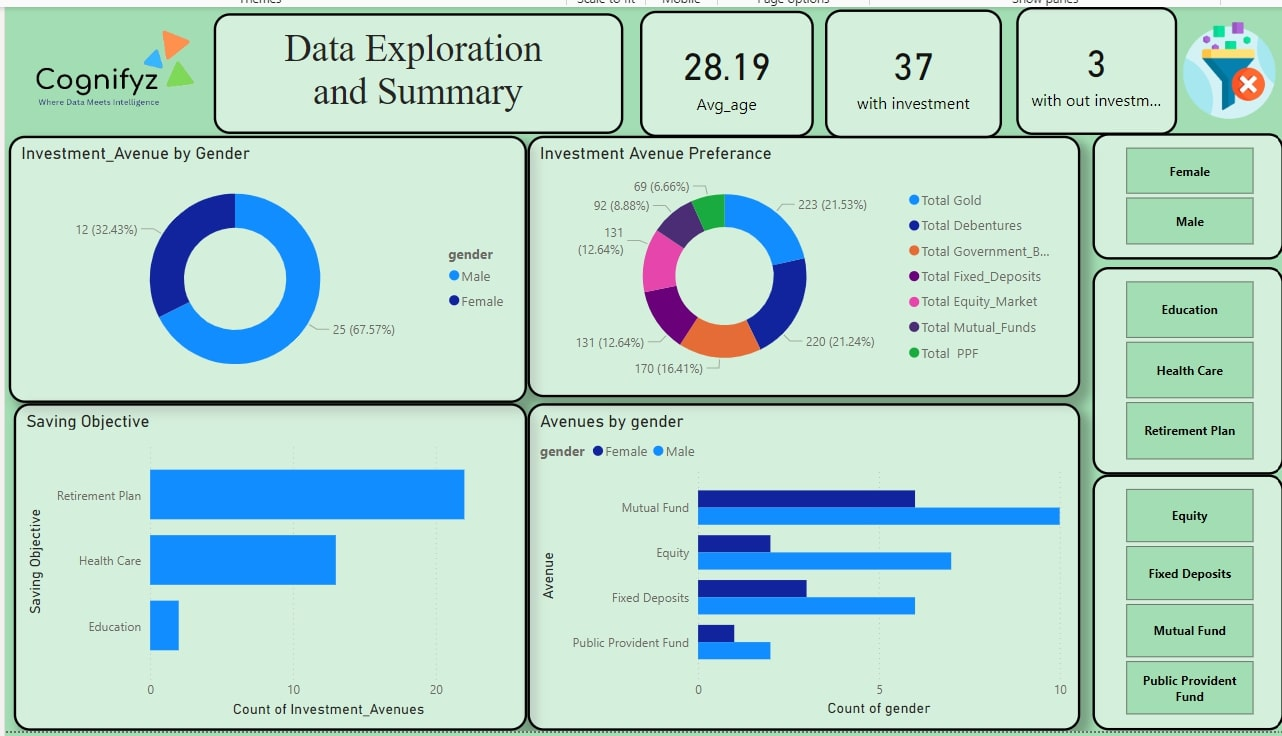

The dashboard page shown, as its layout file describes it:
{"tool":"powerbi","page":{"name":"Task 1","canvas":[1280,720],"ordinal":0},"visuals":[{"type":"donutChart","title":"Investment_Avenue by Gender","fields":{"Category":["Data_set 2.gender"],"Y":["CountNonNull(Data_set 2.Avenue)"],"Series":["Data_set 2.Investment_Avenues"]},"box":[3.5,128.3,515.5,265.9],"z":0},{"type":"clusteredBarChart","title":"Saving Objective","fields":{"Category":["Data_set 2.What are your savings objectives?"],"Y":["CountNonNull(Data_set 2.Investment_Avenues)"]},"box":[8.2,394.2,510.8,325.4],"z":1000},{"type":"donutChart","title":"Investment Avenue Preferance","fields":{"Y":["Sum(Data_set 2.Gold)","Sum(Data_set 2.Debentures)","Sum(Data_set 2.Government_Bonds)","Sum(Data_set 2.Fixed_Deposits)","Sum(Data_set 2.Equity_Market)","Sum(Data_set 2.Mutual_Funds)","Sum(Data_set 2.PPF)"]},"box":[519,128.3,549.3,260.1],"z":2000},{"type":"card","fields":{"Values":["Data_set 2.No investment"]},"box":[815.2,2.3,176.1,128.3],"z":3000},{"type":"card","fields":{"Values":["Data_set 2.Count of Investment_Avenues for No"]},"box":[1005.3,0,159.8,127.1],"z":4000},{"type":"card","fields":{"Values":["measures (2).Avg_age"]},"box":[630.9,3.5,172.6,125.9],"z":5000},{"type":"clusteredBarChart","title":"Avenues by gender","fields":{"Category":["Data_set 2.Avenue"],"Series":["Data_set 2.gender"],"Y":["CountNonNull(Data_set 2.gender)"]},"box":[519,394.2,549.3,325.4],"z":6000},{"type":"slicer","title":"Gender","fields":{"Values":["Data_set 2.gender"]},"box":[1081.1,125.9,191.3,125.9],"z":7000},{"type":"slicer","title":"Avenue","fields":{"Values":["Data_set 2.Avenue"]},"box":[1081.1,465.3,191.3,254.2],"z":8000},{"type":"slicer","title":"Saving Objective","fields":{"Values":["Data_set 2.What are your savings objectives?"]},"box":[1081.1,258.9,191.3,206.4],"z":9000},{"type":"image","box":[1165,0,106.1,125.9],"z":10000},{"type":"textbox","box":[207.6,5.8,407,120.1],"z":11000},{"type":"image","box":[0,0,207.6,125.9],"z":12000}]}

Visuals, with their boxes in screenshot pixels (x1, y1, x2, y2):
"Investment_Avenue by Gender" donutChart: [13,133,523,396]
"Saving Objective" clusteredBarChart: [18,396,523,717]
"Investment Avenue Preferance" donutChart: [523,133,1065,390]
card - Data_set 2.No investment: [815,9,989,136]
card - Data_set 2.Count of Investment_Avenues for No: [1003,7,1161,132]
card - measures (2).Avg_age: [633,10,804,134]
"Avenues by gender" clusteredBarChart: [523,396,1065,717]
"Gender" slicer: [1078,131,1267,255]
"Avenue" slicer: [1078,466,1267,717]
"Saving Objective" slicer: [1078,262,1267,466]
image: [1161,7,1266,131]
textbox: [215,12,617,131]
image: [10,7,215,131]
